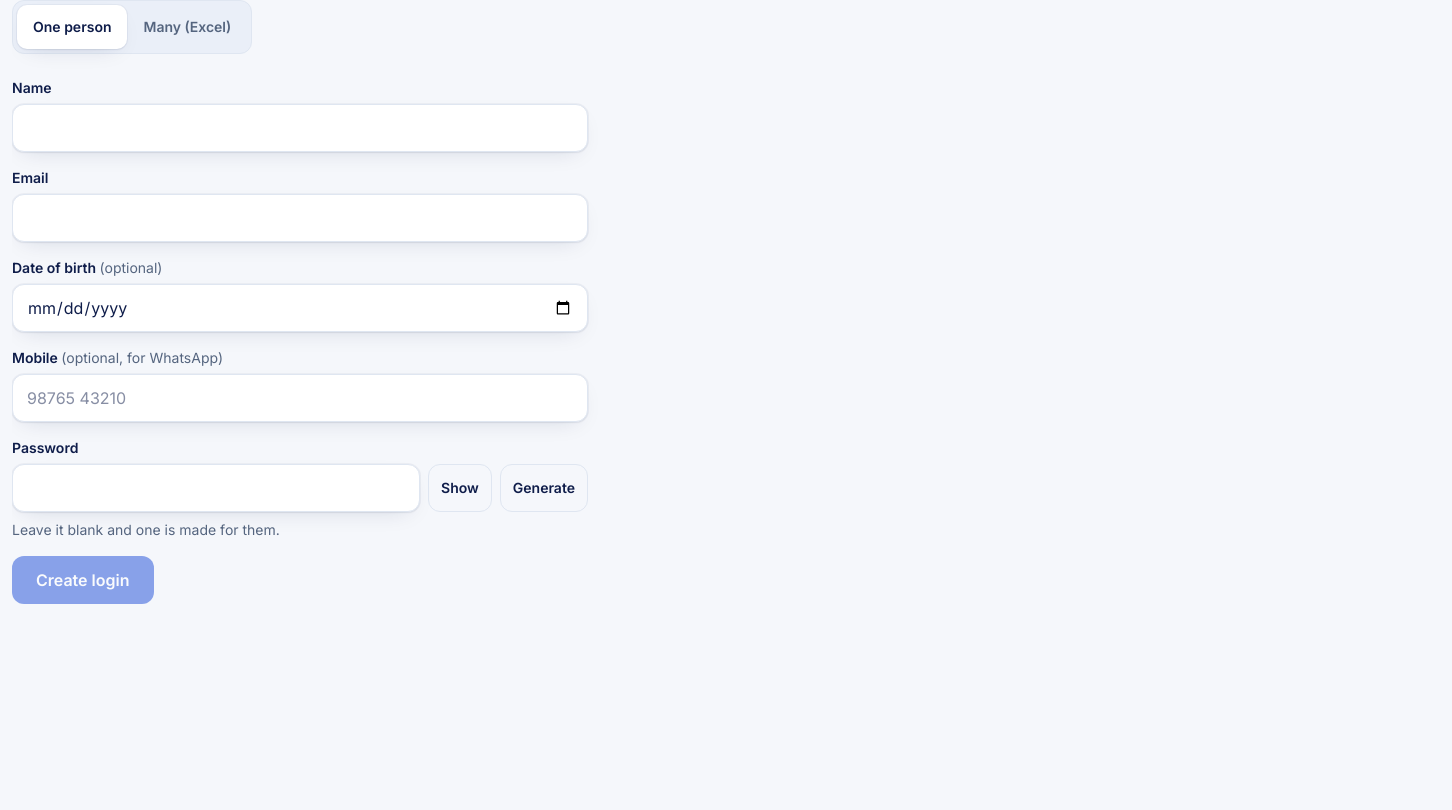
Test: AddPeopleForm — one person › says so when the email already has a login
The width and height of the screenshot is (1452, 810).
Type "Taken" into the field labelled "Name" at (300, 128), box [12,104,588,152]
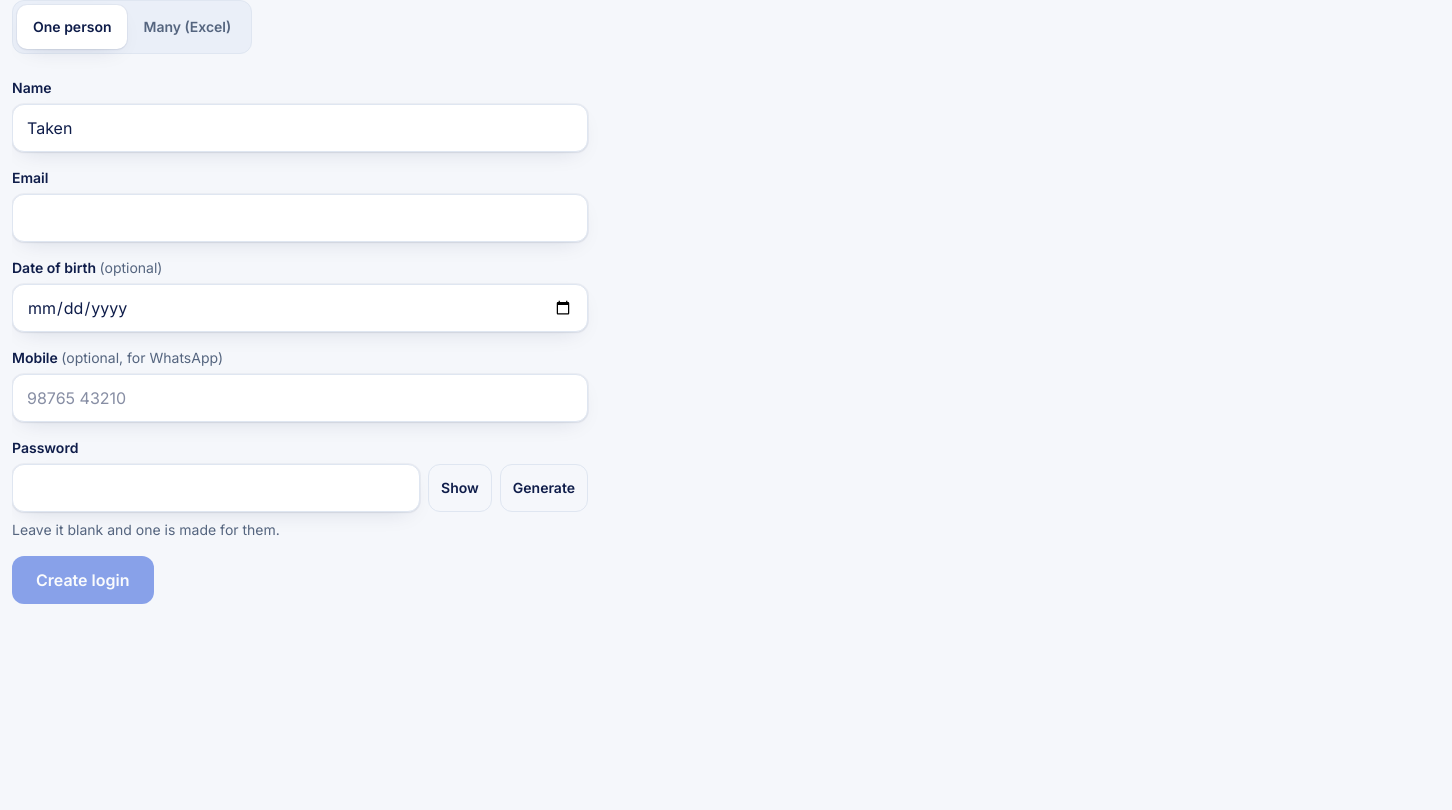
Type "taken@example.com" into the field labelled "Email" at (300, 218), box [12,194,588,242]
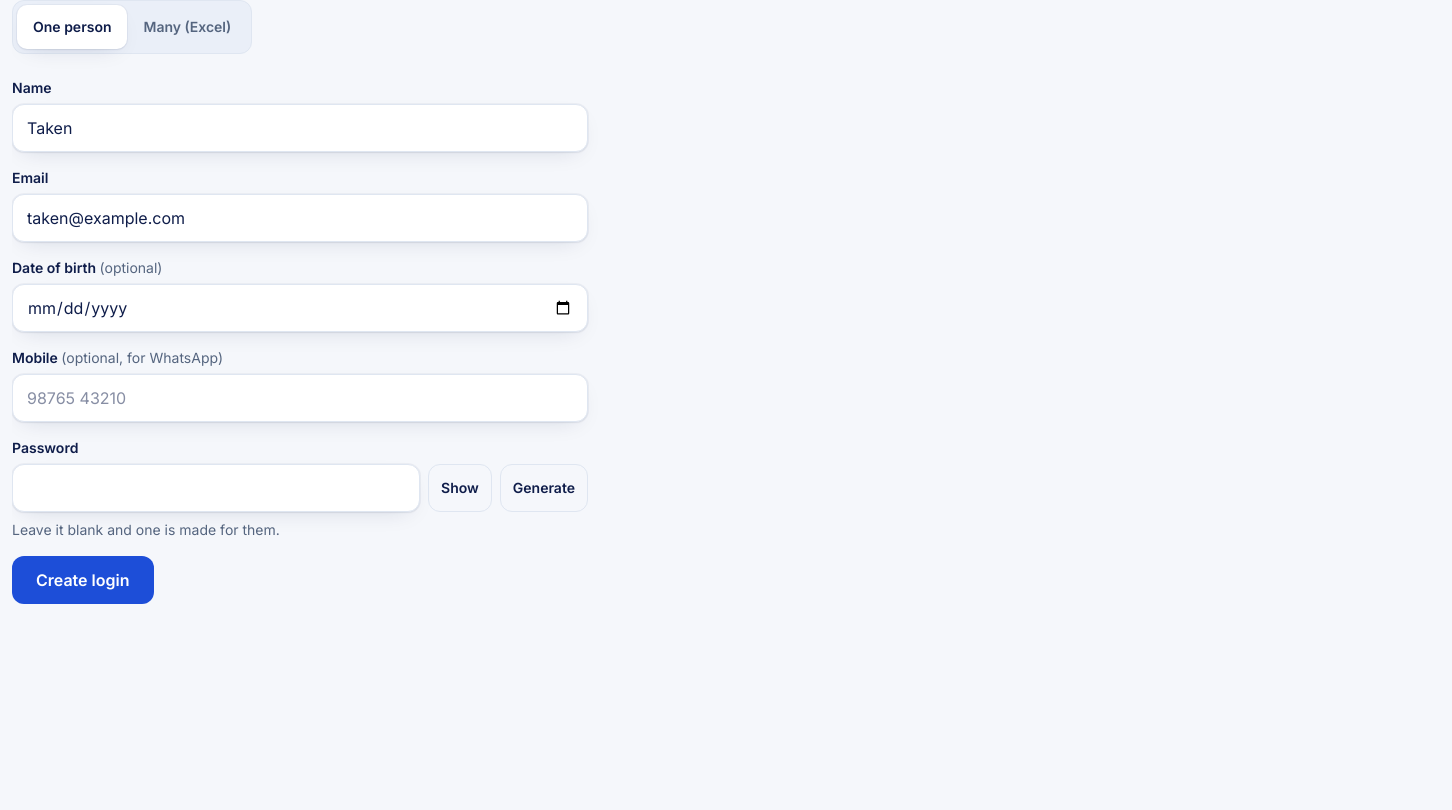
Type "2005-01-15" into the date field labelled "Date of birth (optional)" at (300, 308), box [12,284,588,332]
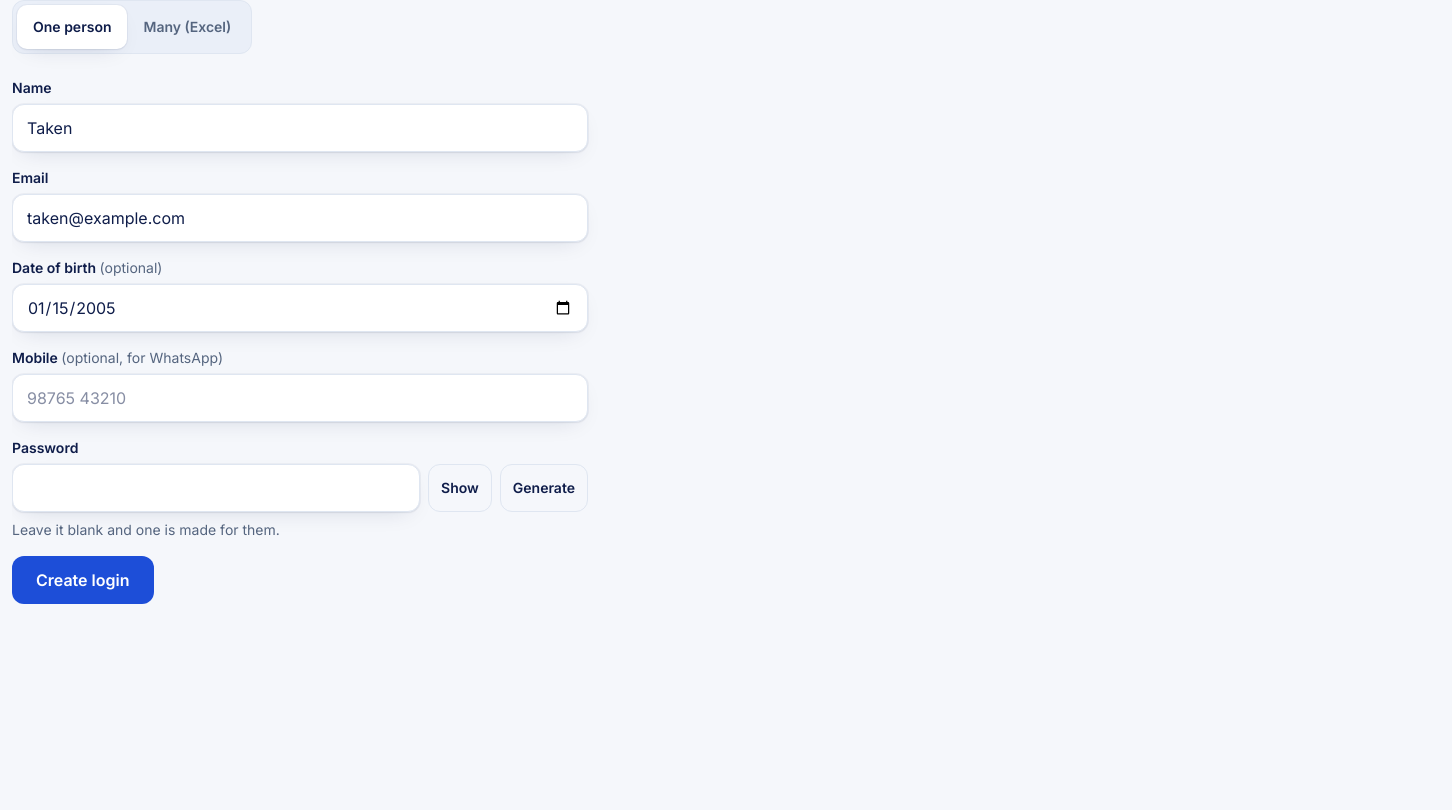
Click the button "Create login" at (83, 580), box [12,556,154,604]
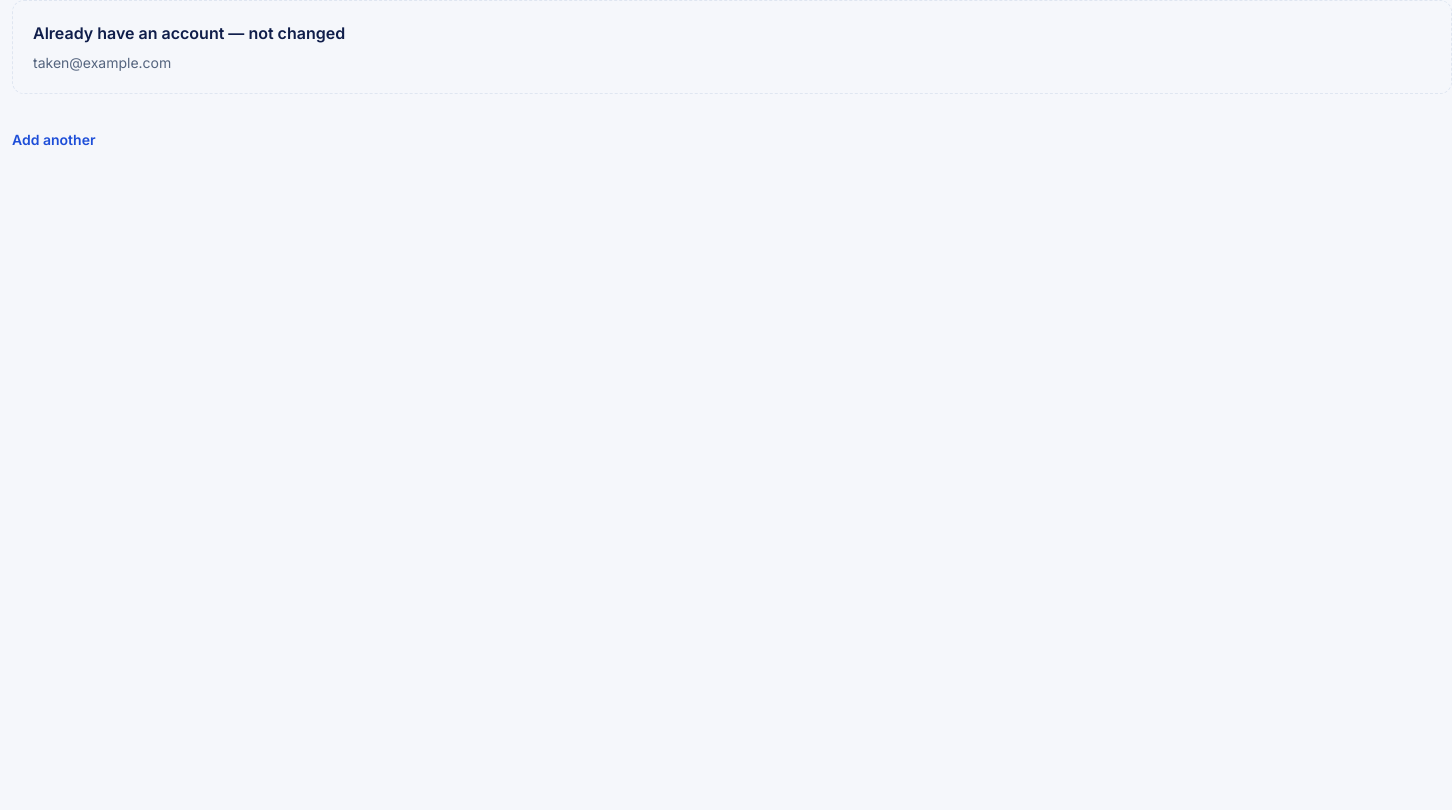
Now the heading "Already have an account — not changed" is shown, box [33,23,345,43]
